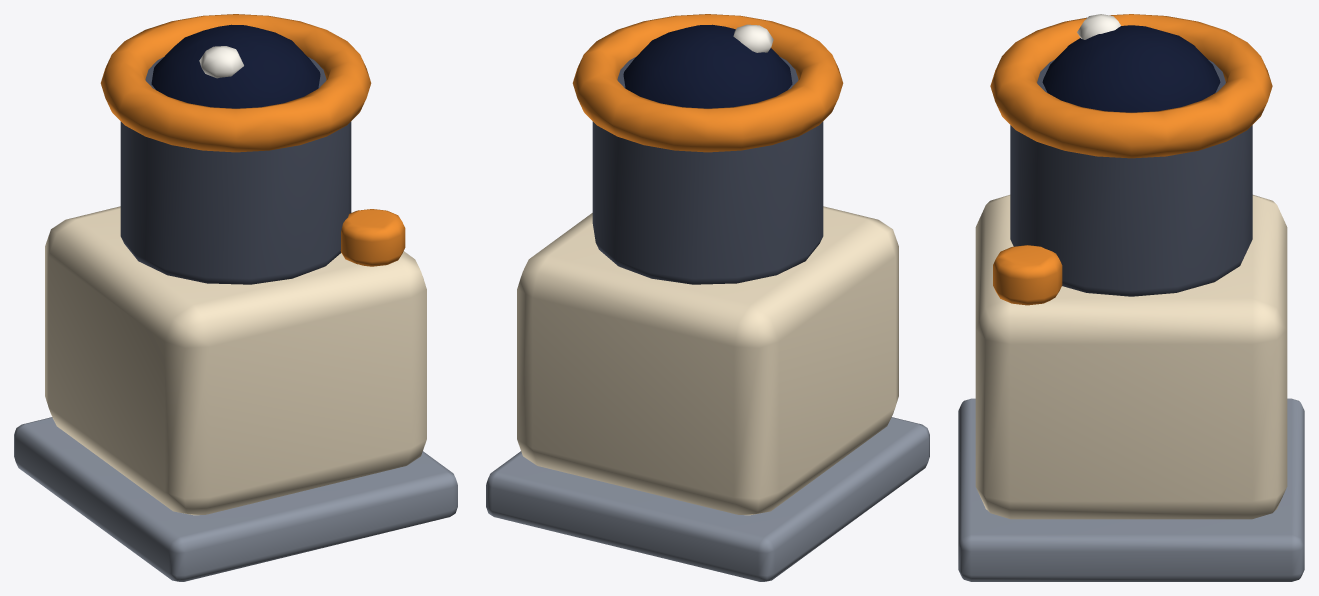
File: Part_Camera.fbx
3 views of the same model, side by side, from view 1: azimuth 30°, elevation 25°; view 2: azimuth 150°, elevation 25°; view 3: azimuth 270°, elevation 25° (orthographic). The views are drawn at different scales.
Visible parts, largest first — view 1: Part_Camera.Body, Part_Camera.Barrel, Part_Camera.Plinth, Part_Camera.Rim, Part_Camera.Lens, Part_Camera.Shutter, Part_Camera.Glint; view 2: Part_Camera.Body, Part_Camera.Barrel, Part_Camera.Plinth, Part_Camera.Rim, Part_Camera.Lens, Part_Camera.Glint; view 3: Part_Camera.Body, Part_Camera.Barrel, Part_Camera.Plinth, Part_Camera.Rim, Part_Camera.Lens, Part_Camera.Shutter, Part_Camera.Glint.
Boxes of the visible parts, x1=… form: Part_Camera.Body: x1=45, y1=206, x2=426, y2=515; Part_Camera.Barrel: x1=120, y1=57, x2=351, y2=284; Part_Camera.Plinth: x1=14, y1=417, x2=457, y2=581; Part_Camera.Rim: x1=100, y1=14, x2=371, y2=152; Part_Camera.Lens: x1=151, y1=24, x2=320, y2=108; Part_Camera.Shutter: x1=340, y1=209, x2=405, y2=266; Part_Camera.Glint: x1=199, y1=46, x2=243, y2=78; Part_Camera.Body: x1=517, y1=206, x2=898, y2=515; Part_Camera.Barrel: x1=592, y1=57, x2=823, y2=284; Part_Camera.Plinth: x1=486, y1=417, x2=929, y2=581; Part_Camera.Rim: x1=572, y1=14, x2=843, y2=152; Part_Camera.Lens: x1=623, y1=24, x2=792, y2=108; Part_Camera.Glint: x1=733, y1=24, x2=773, y2=52; Part_Camera.Body: x1=975, y1=195, x2=1287, y2=519; Part_Camera.Barrel: x1=1010, y1=60, x2=1252, y2=296; Part_Camera.Plinth: x1=958, y1=398, x2=1304, y2=581; Part_Camera.Rim: x1=990, y1=14, x2=1272, y2=158; Part_Camera.Lens: x1=1042, y1=25, x2=1220, y2=112; Part_Camera.Shutter: x1=993, y1=245, x2=1062, y2=305; Part_Camera.Glint: x1=1077, y1=14, x2=1120, y2=39.
Size of the model in its own units: 0.4 by 0.615 by 0.4.
1 material, 1 textured.
